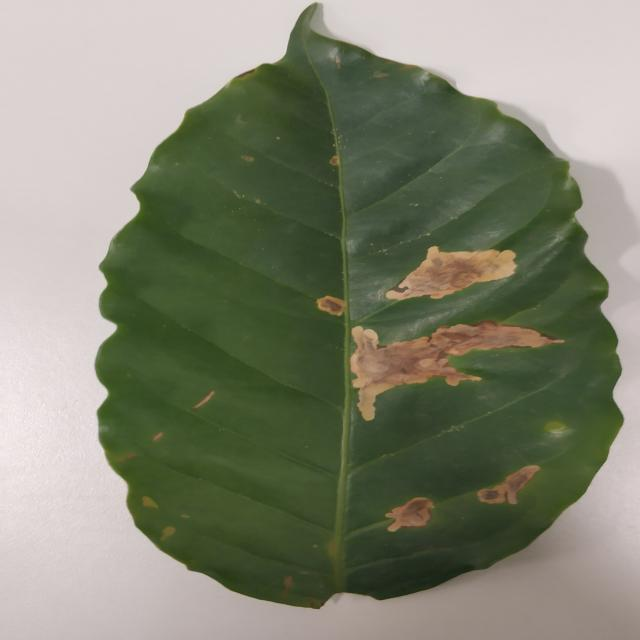Plaga-Minador: (93, 4, 624, 612)
